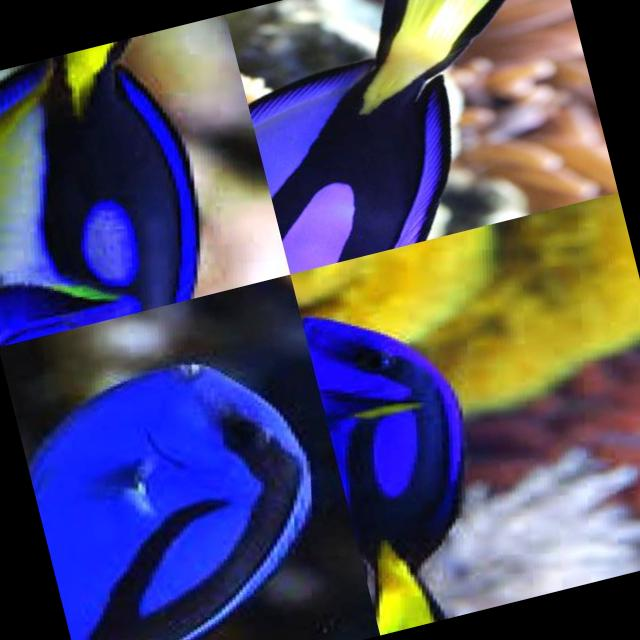BlueTang: (11, 339, 348, 640), (224, 0, 533, 266), (298, 279, 503, 635), (0, 32, 216, 345)
